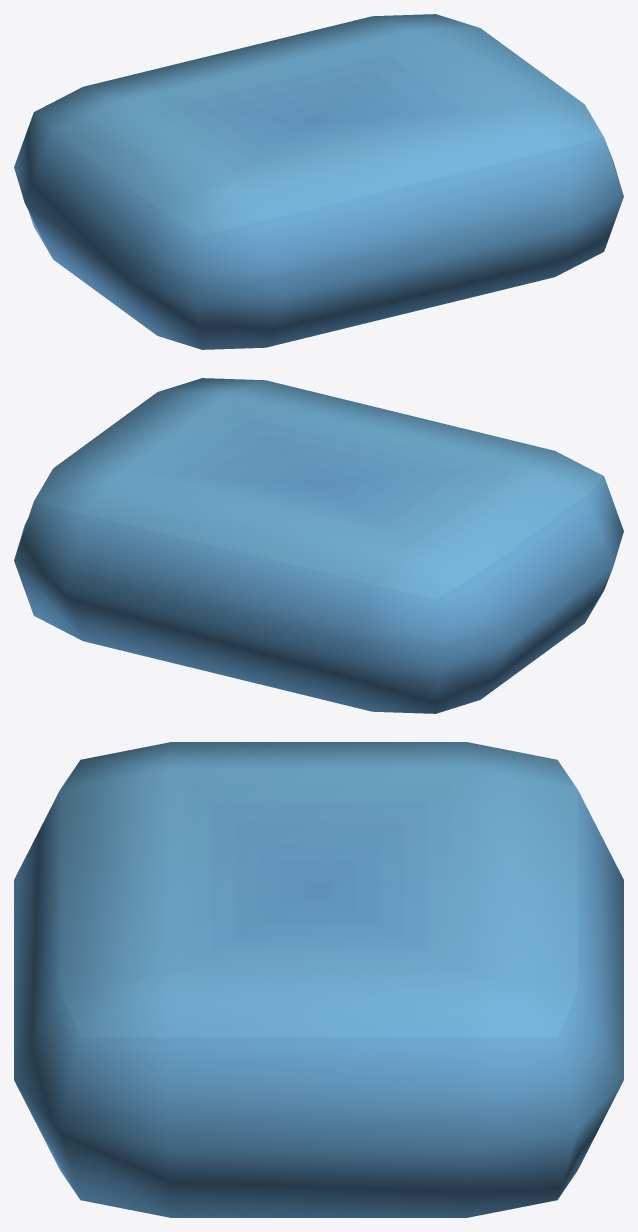
File: pillow_B.glb
3 renders of one model, top to bottom at view 1: azimuth 30°, elevation 25°; view 2: azimuth 150°, elevation 25°; view 3: azimuth 270°, elevation 25°, orthographic. The views are drawn at different scales.
Visible parts, largest first — view 1: pillow_B; view 2: pillow_B; view 3: pillow_B.
Boxes of the visible parts, x1,y1,x2,y2 form: pillow_B: [14, 14, 623, 349]; pillow_B: [14, 378, 623, 713]; pillow_B: [14, 742, 623, 1217].
Bounding box in the file's own units: 0.65 × 0.2 × 0.5.
Materials: 1 (1 with a texture image).
